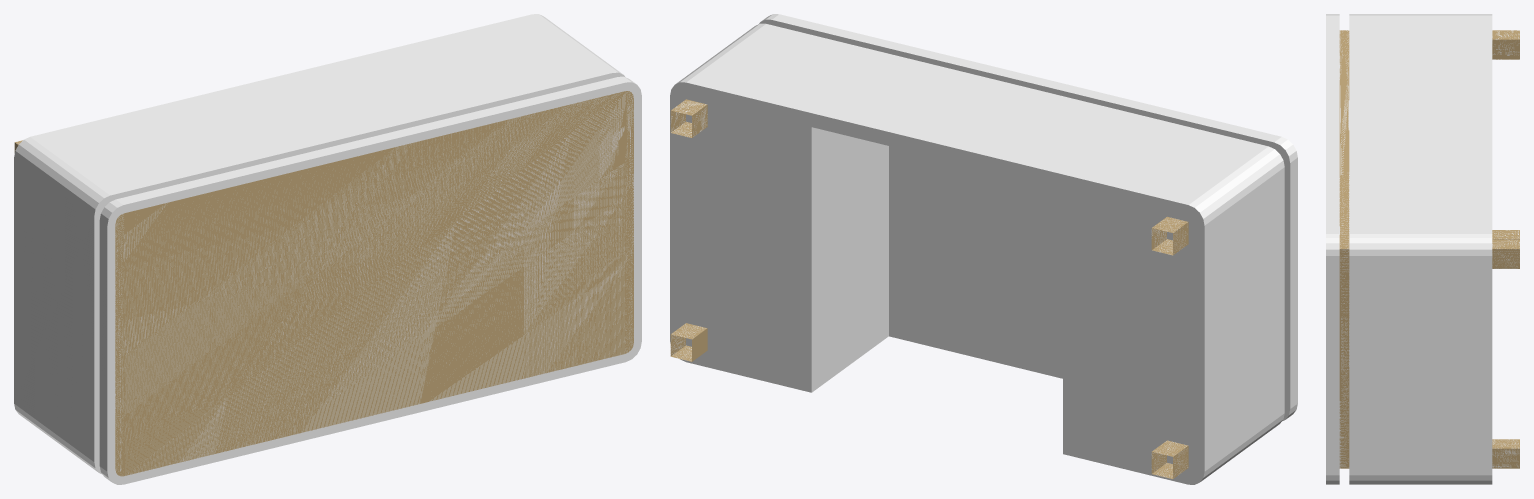
The picture shows the model from 3 angles, left to right: view 1: azimuth 30°, elevation 25°; view 2: azimuth 150°, elevation 25°; view 3: azimuth 270°, elevation 25°; orthographic projection. The views are drawn at different scales.
Parts seen in each view (by area): view 1: office desk; view 2: office desk; view 3: office desk.
Boxes of the visible parts, x1,y1,x2,y2 form: office desk: [14, 14, 641, 484]; office desk: [670, 14, 1297, 484]; office desk: [1326, 14, 1519, 484].
Size of the model in its own units: 78.74 by 40.24 by 27.76.
